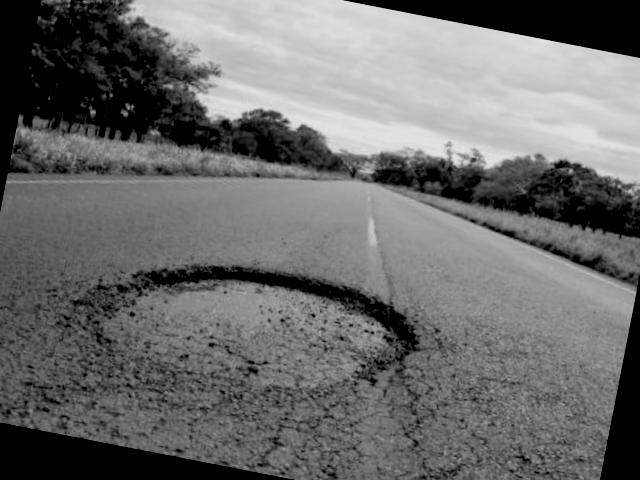Pothole: (69, 210, 479, 448)
